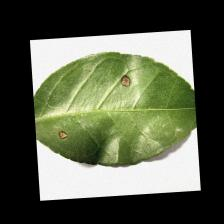canker: (49, 70, 139, 142)
